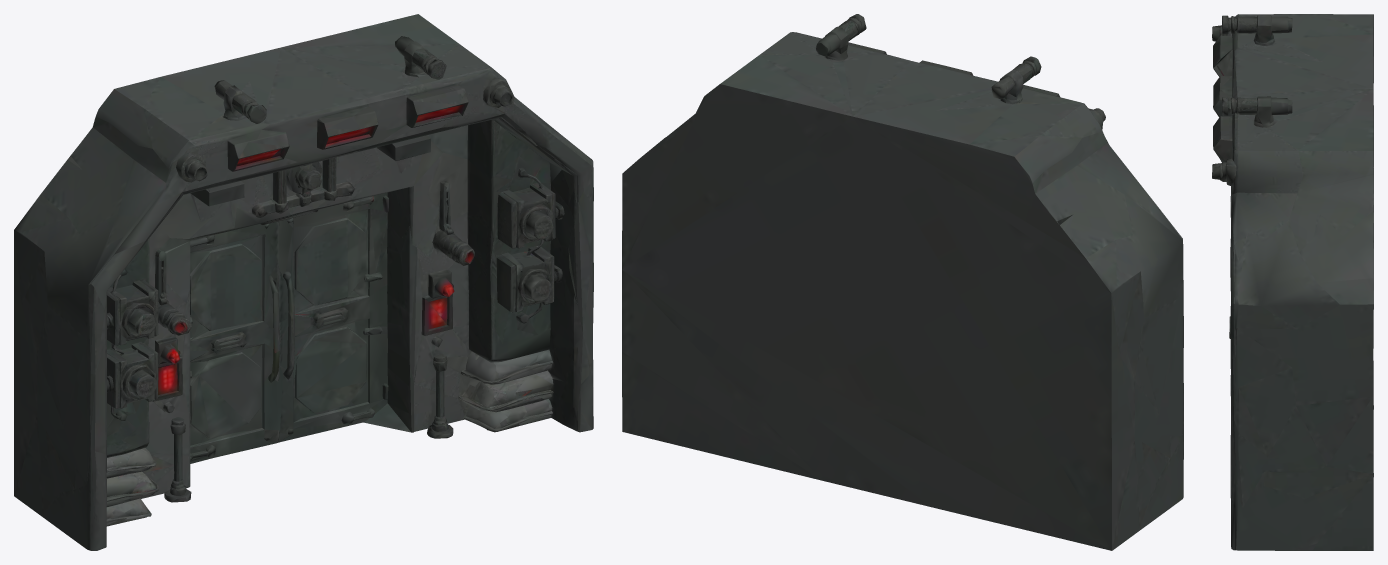
The model's file is mx_map_bunker.glb.
3 renders of one model, left to right at view 1: azimuth 30°, elevation 25°; view 2: azimuth 150°, elevation 25°; view 3: azimuth 270°, elevation 25°, orthographic. The views are drawn at different scales.
Size of the model in its own units: 1.9 by 1.48 by 0.5708.
1 material, 1 textured.
